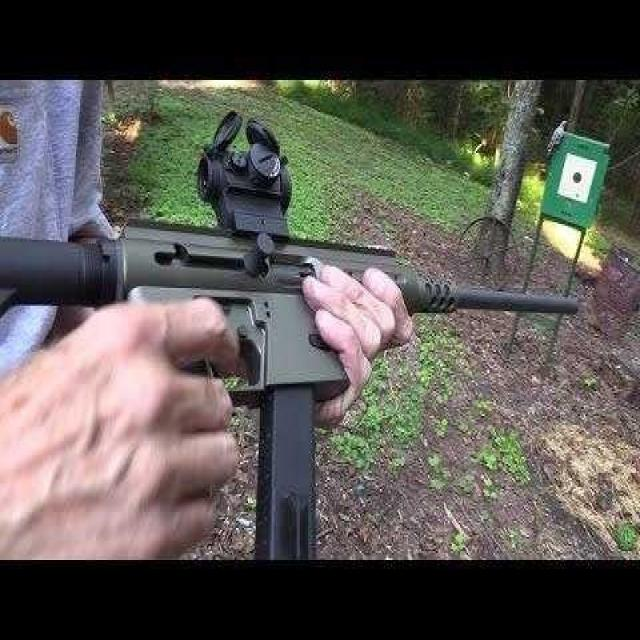heavyweapon: (1, 184, 612, 607)
